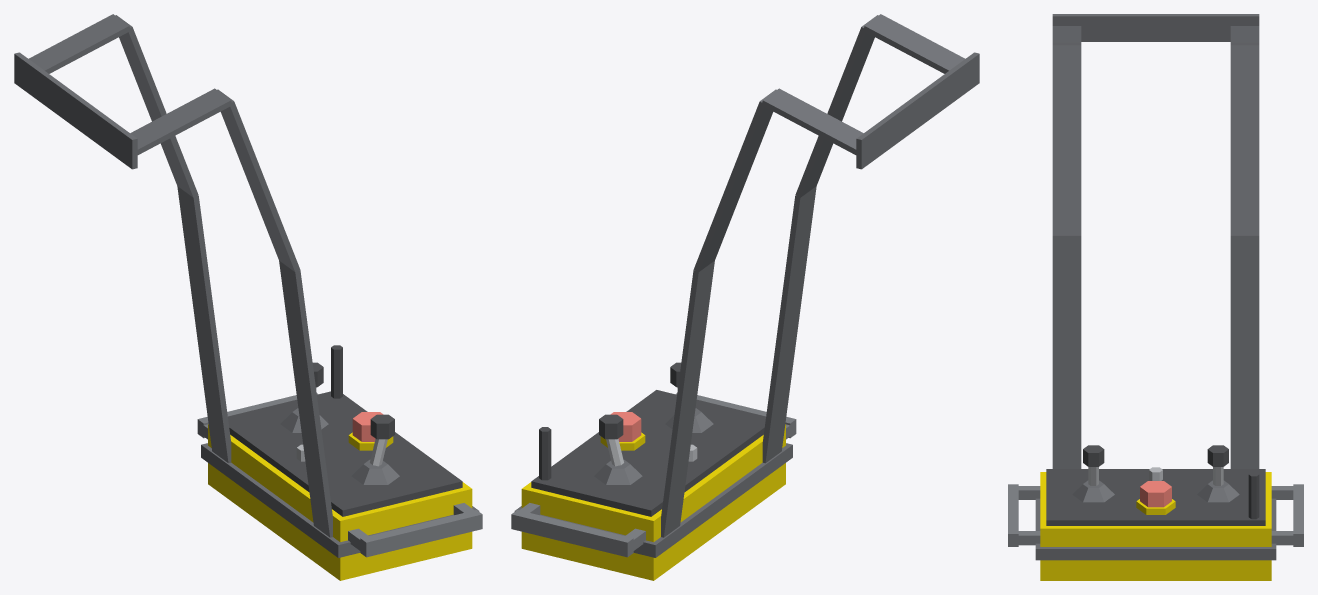
File: controle_remoto.glb
3 views of the same model, side by side, from view 1: azimuth 30°, elevation 25°; view 2: azimuth 150°, elevation 25°; view 3: azimuth 270°, elevation 25° (orthographic). The views are drawn at different scales.
Visible parts, largest first — view 1: corpo, alca; view 2: corpo, alca; view 3: alca, corpo.
Part boxes in pixels (left/top/right/bottom): corpo: left=197, top=345, right=482, bottom=580; alca: left=14, top=14, right=332, bottom=537; corpo: left=511, top=362, right=796, bottom=580; alca: left=661, top=14, right=979, bottom=537; alca: left=1052, top=14, right=1259, bottom=468; corpo: left=1008, top=445, right=1303, bottom=580.
Bounding box in the file's own units: 0.383 × 0.5429 × 0.332.
